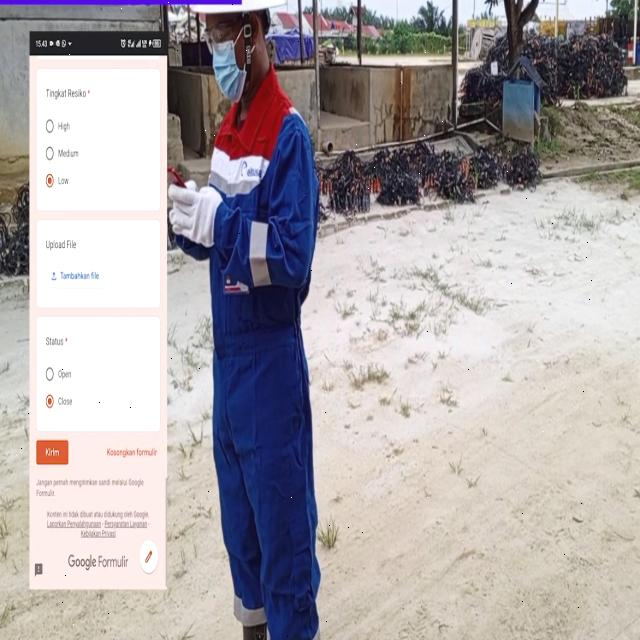Gloves: (169, 184, 219, 242)
Mask: (212, 42, 247, 100)
Overall Suit: (208, 83, 319, 640)
Safety Boots: (240, 624, 271, 640)
